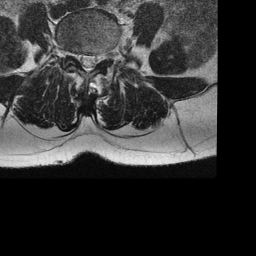CCS_normal: (84, 48, 92, 78)
LFS_stenosis: (99, 49, 107, 68)
LLS_normal: (91, 49, 99, 71)
RFS_severe_stenosis: (70, 47, 77, 68)
RLS_normal: (77, 48, 85, 73)
